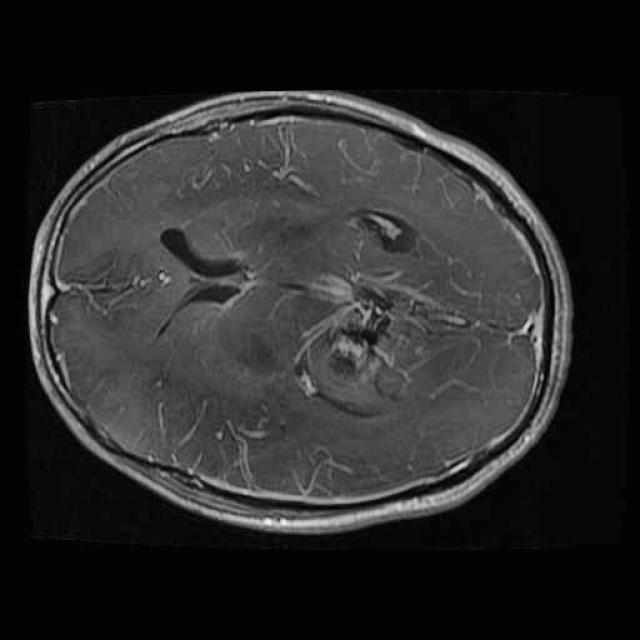Non-Tumor: (292, 258, 430, 436)
